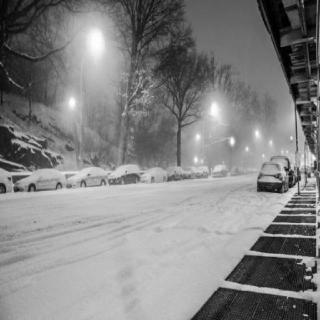other: (192, 98, 296, 168), (64, 91, 82, 113)
